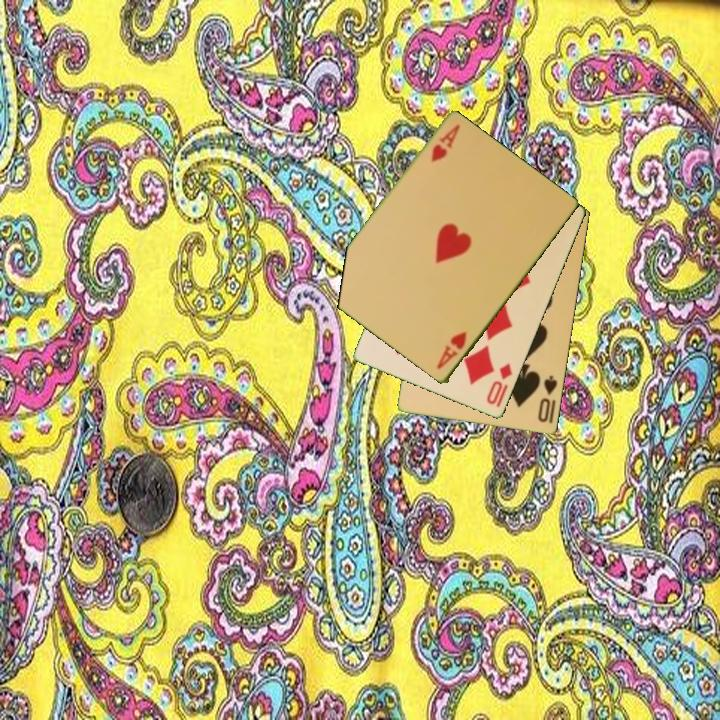10d: (483, 360, 515, 408)
10s: (535, 372, 560, 425)
Ah: (433, 328, 470, 373), (427, 121, 463, 166)
